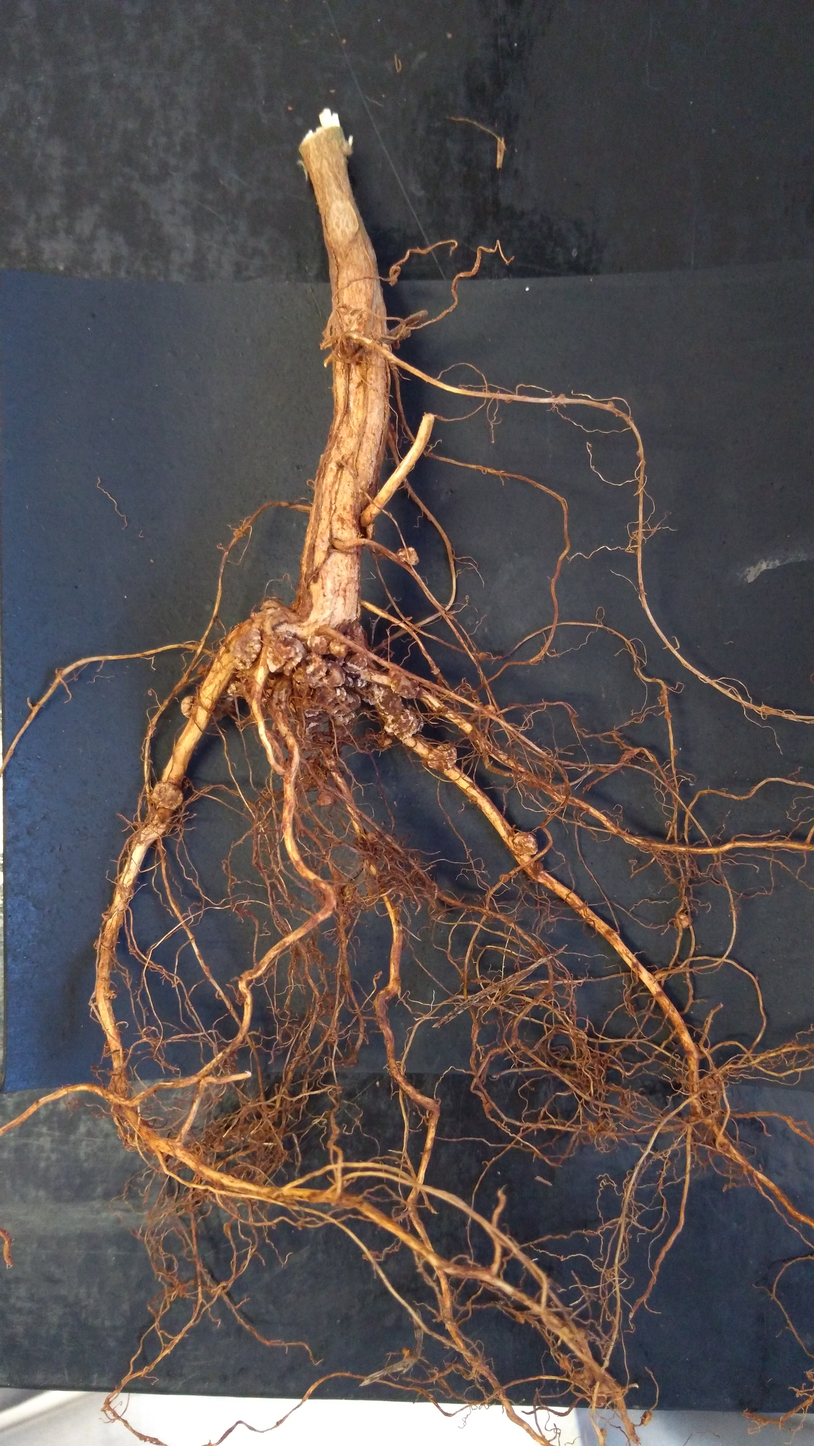nodule: (383, 703, 426, 746), (265, 633, 307, 677), (302, 652, 348, 690), (386, 666, 422, 702), (232, 625, 264, 665), (322, 687, 361, 716), (150, 780, 185, 812), (426, 742, 459, 775), (508, 829, 540, 856), (396, 545, 426, 571), (212, 690, 235, 723), (303, 634, 334, 657), (361, 681, 385, 707), (348, 652, 373, 675), (178, 694, 197, 721), (328, 639, 351, 660), (315, 788, 338, 809), (588, 1386, 609, 1409), (672, 909, 694, 930), (557, 1355, 574, 1373), (482, 703, 500, 716), (225, 681, 238, 697), (498, 872, 511, 886), (478, 651, 491, 663)
